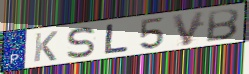5: (139, 16, 165, 50)
B: (204, 7, 241, 43)
K: (32, 30, 60, 63)
L: (102, 23, 130, 55)
S: (65, 26, 98, 60)
V: (171, 9, 207, 47)
